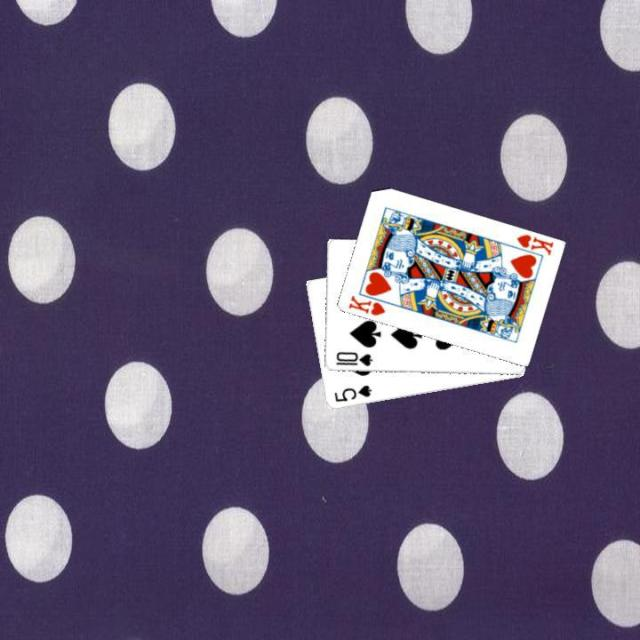10S: (332, 348, 374, 368)
5S: (330, 382, 373, 404)
KH: (512, 230, 555, 257), (344, 292, 387, 318)
